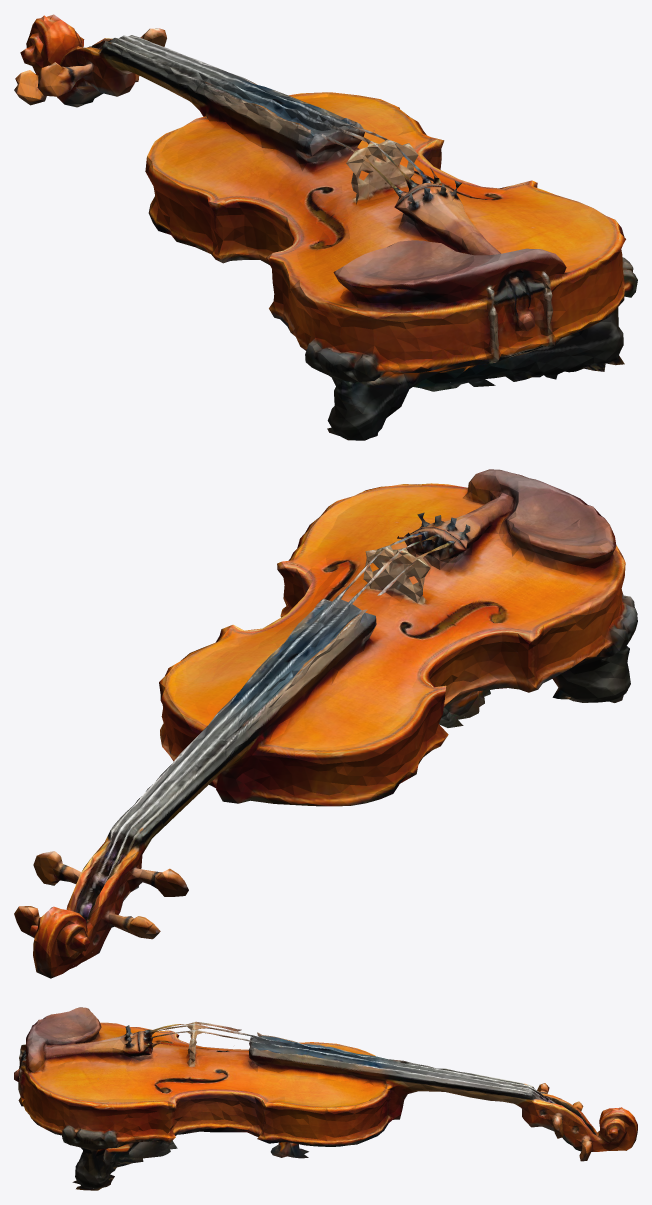
File: violin.glb
3 renders of one model, top to bottom at view 1: azimuth 30°, elevation 25°; view 2: azimuth 150°, elevation 25°; view 3: azimuth 270°, elevation 25°, orthographic. The views are drawn at different scales.
Parts seen in each view (by area): view 1: Mesh_0; view 2: Mesh_0; view 3: Mesh_0.
Boxes of the visible parts, x1=… form: Mesh_0: x1=14, y1=14, x2=637, y2=440; Mesh_0: x1=14, y1=469, x2=637, y2=978; Mesh_0: x1=14, y1=1007, x2=637, y2=1190.
Bounding box in the file's own units: 0.2245 × 0.1262 × 0.6056.
Materials: 1 (1 with a texture image).
